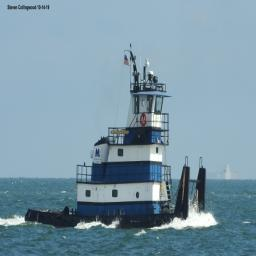tugboat: (22, 41, 209, 240)
